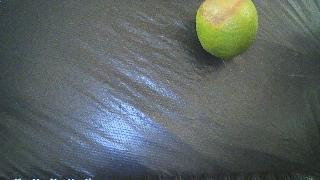DESECHO: (195, 0, 258, 59)
